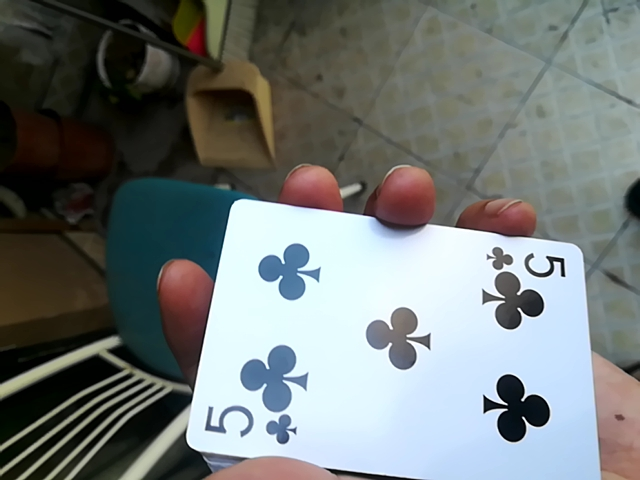mh 5: (185, 197, 606, 480)
